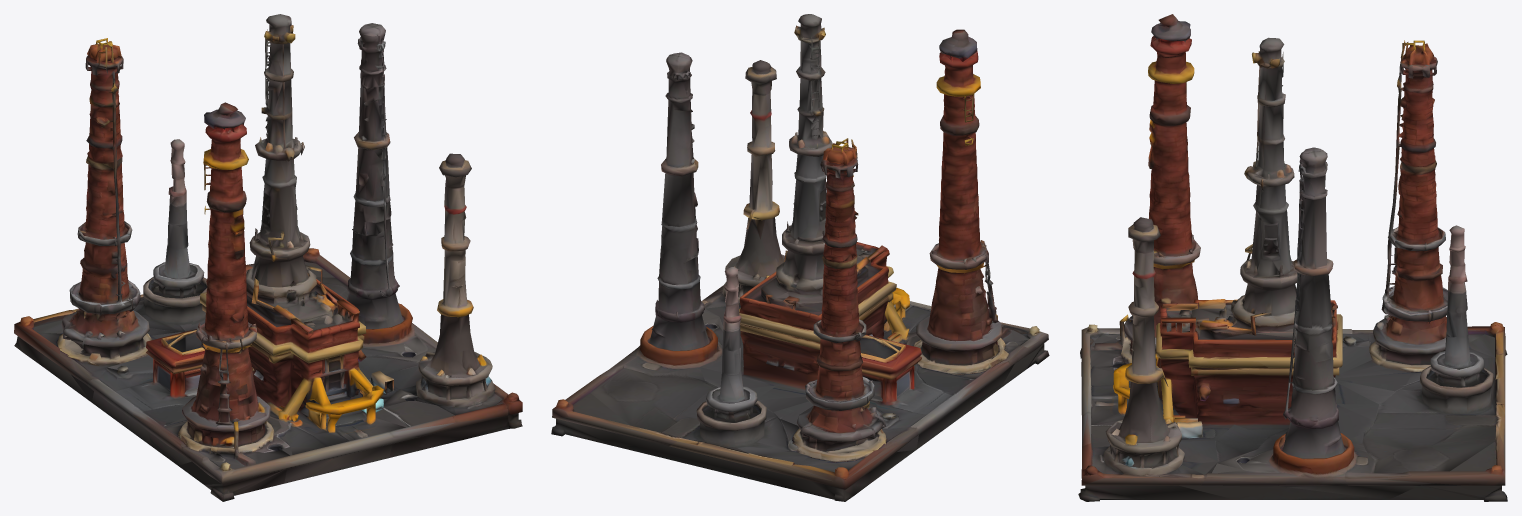
Rendered from env_industry_smokestacks.fbx.
The picture shows the model from 3 angles, left to right: view 1: azimuth 30°, elevation 25°; view 2: azimuth 150°, elevation 25°; view 3: azimuth 270°, elevation 25°; orthographic projection. The views are drawn at different scales.
Parts seen in each view (by area): view 1: env_industry_smokestacks_LOD0; view 2: env_industry_smokestacks_LOD0; view 3: env_industry_smokestacks_LOD0.
Boxes of the visible parts, <box> form: env_industry_smokestacks_LOD0: <box>14,14,522,501</box>; env_industry_smokestacks_LOD0: <box>551,14,1049,501</box>; env_industry_smokestacks_LOD0: <box>1078,14,1507,501</box>.
Size of what is drawn, in the model's own units: 0.8154 by 0.9779 by 0.9831.
